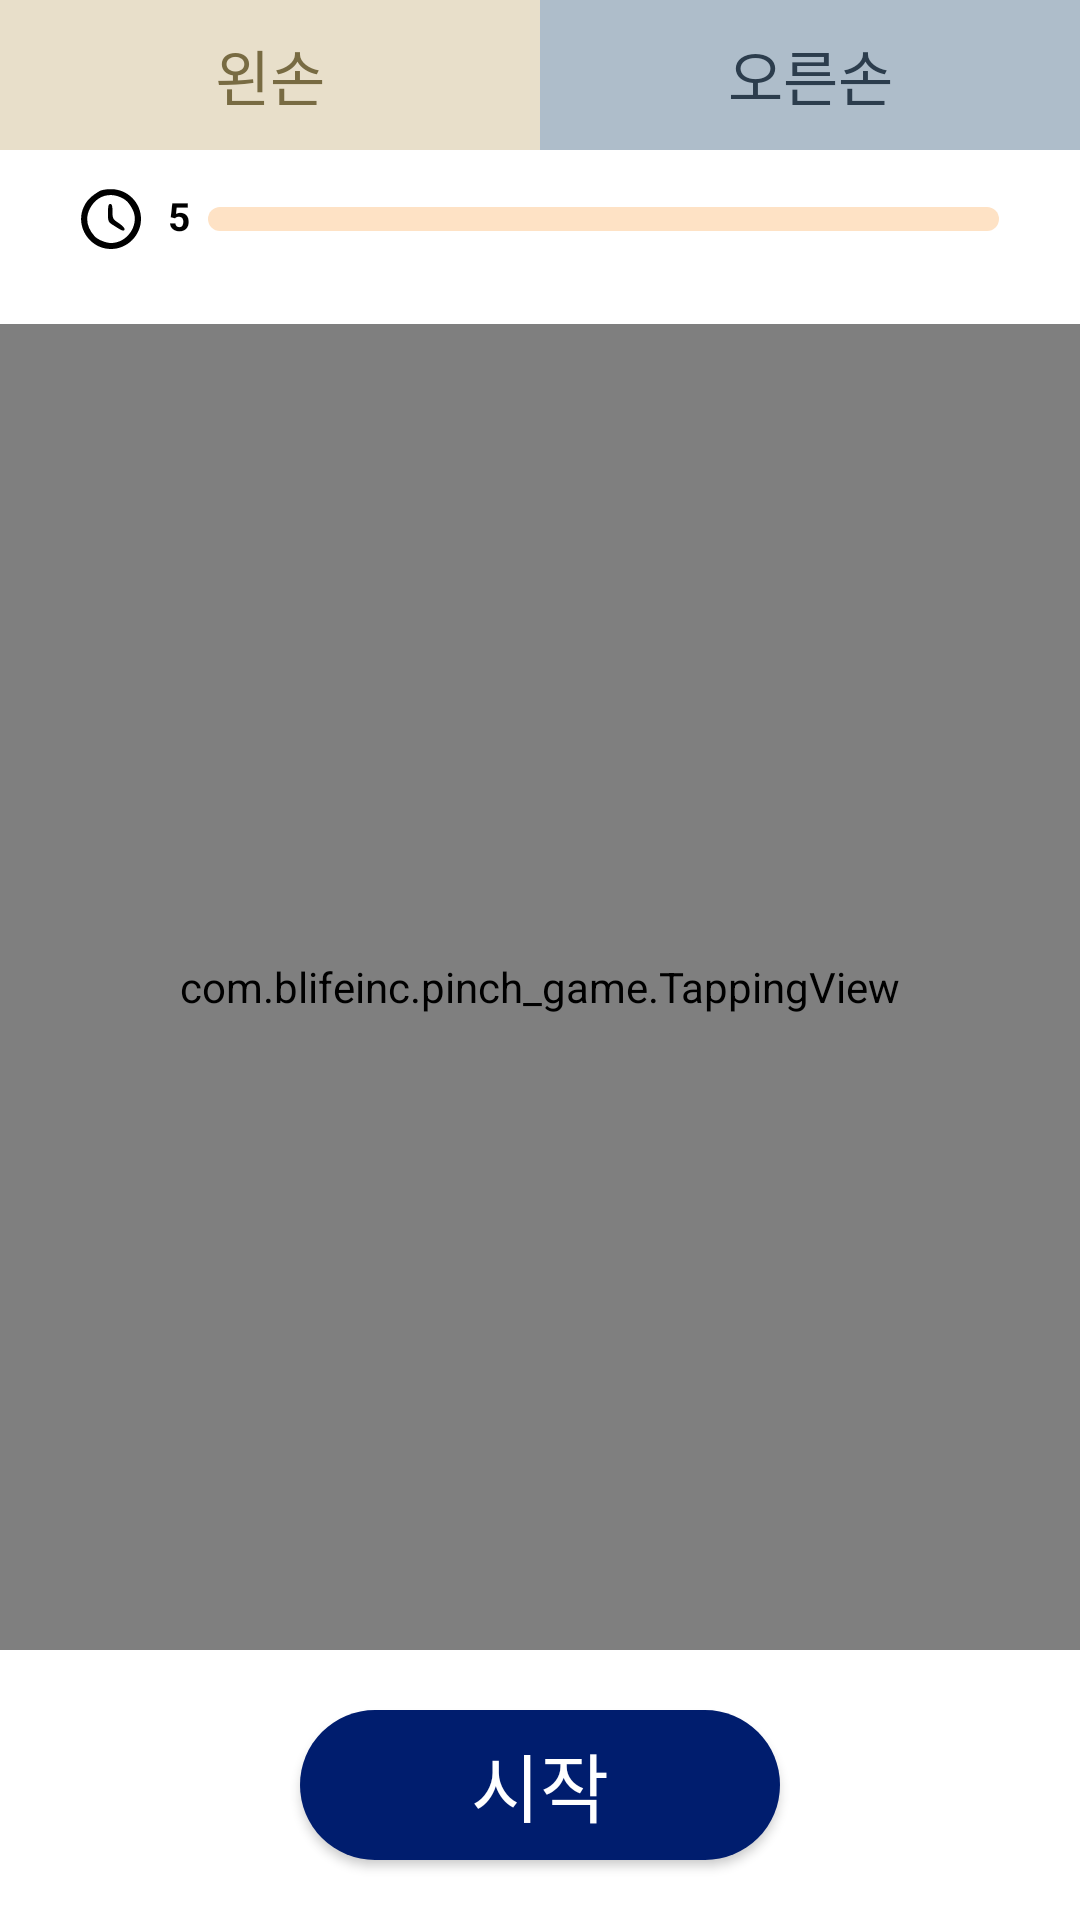

Point at icon controls on the screen. Image size 1080×1920, points as (x=x, y=y).
clock: (x=111, y=219)
